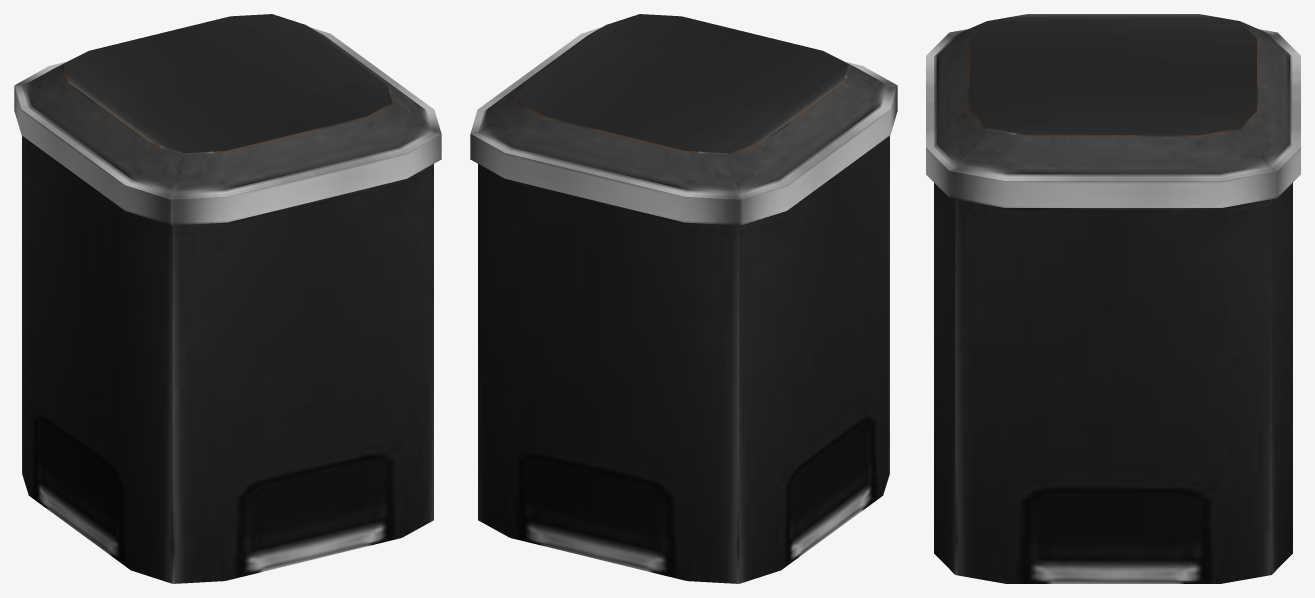
File: trashcan.glb
3 views of the same model, side by side, from view 1: azimuth 30°, elevation 25°; view 2: azimuth 150°, elevation 25°; view 3: azimuth 270°, elevation 25° (orthographic). The views are drawn at different scales.
Visible parts, largest first — view 1: trashcontainer_atlas_kitchen_0; view 2: trashcontainer_atlas_kitchen_0; view 3: trashcontainer_atlas_kitchen_0.
Part boxes in pixels (box(x1,y1,x2,y2)): trashcontainer_atlas_kitchen_0: box(14, 14, 441, 583); trashcontainer_atlas_kitchen_0: box(470, 14, 897, 583); trashcontainer_atlas_kitchen_0: box(926, 14, 1300, 583).
Size of the model in its own units: 0.6267 by 0.8 by 0.6267.
Materials: 1 (1 with a texture image).
